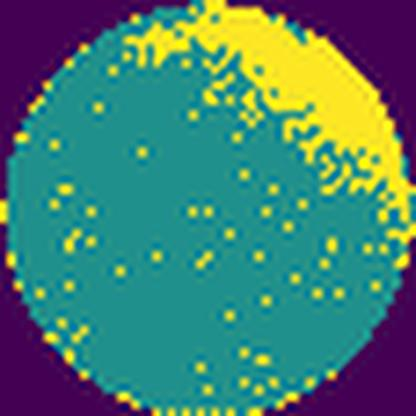Edge-Loc: (122, 0, 416, 225)
